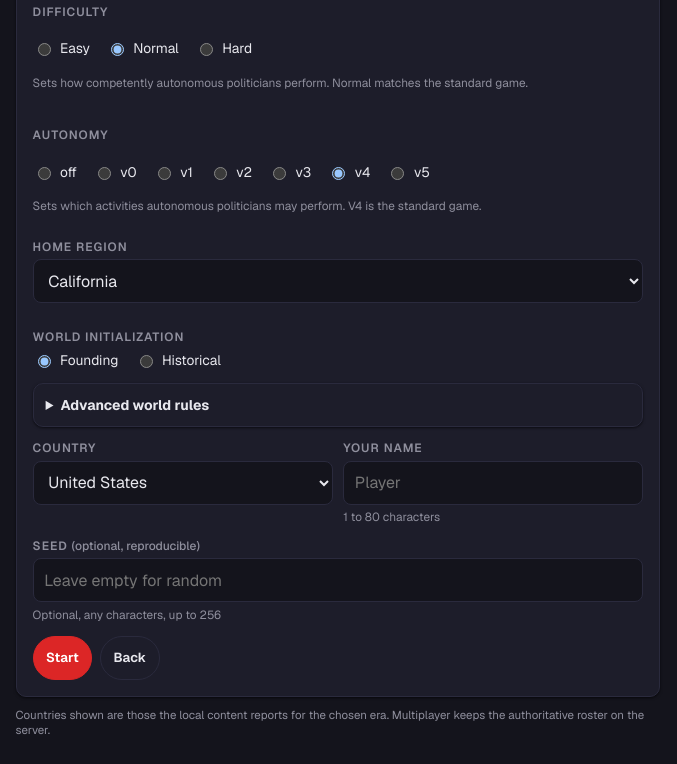
Scenario: NewGameScreen HoS seating-path notice › names the authored executive office for a UK HoS start
(page scrolled)
Select "United Kingdom" in the dropdown labelled "Country": (183, 483) [33,461,333,505]
(page scrolled)
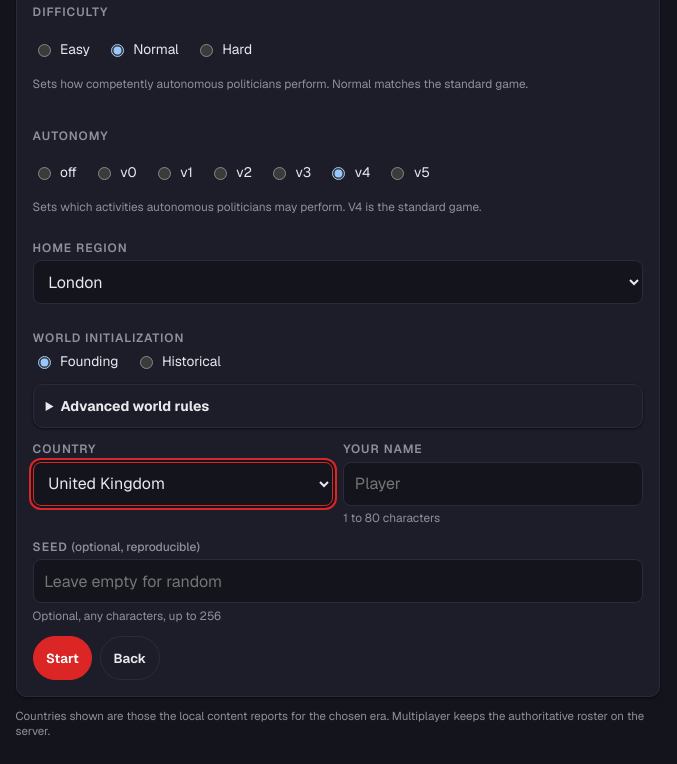
Click the radio button labelled "Historical": click(146, 363) [140,356,152,369]
(page scrolled)
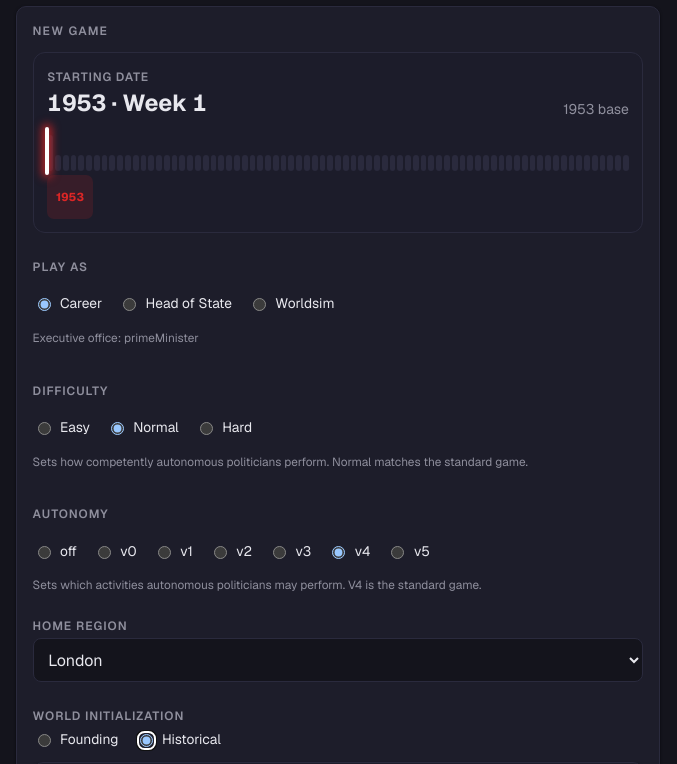
Click the radio button labelled "Head of State": click(130, 305) [123,298,136,311]
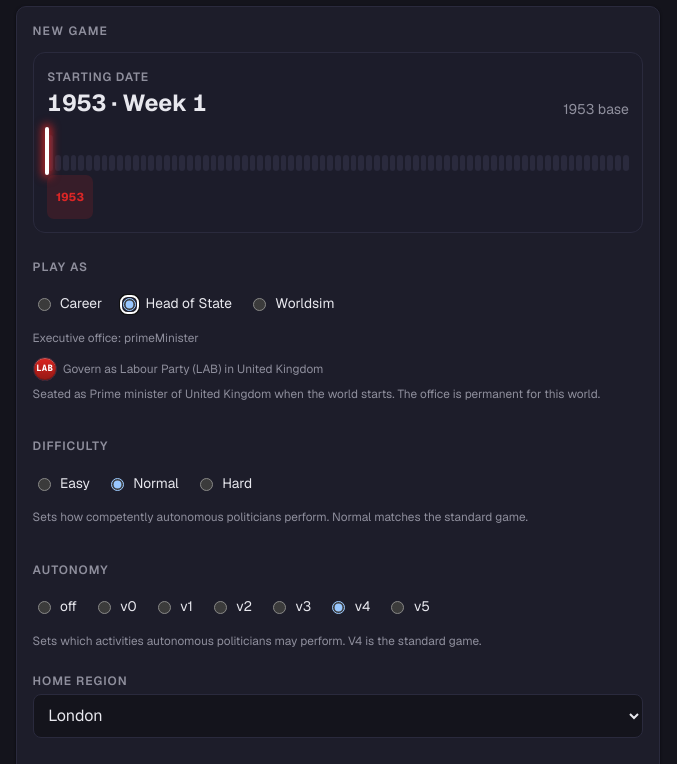
Expected: the text "Govern as Labour Party (LAB) in United Kingdom" is shown, [63,362,324,376]
Expected: the text "permanent for this world" is shown, [33,386,600,401]
